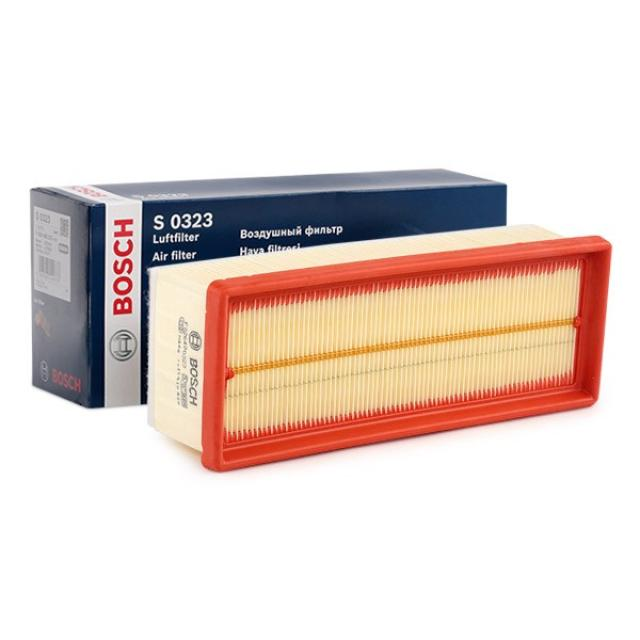air_filter: (146, 228, 612, 438)
